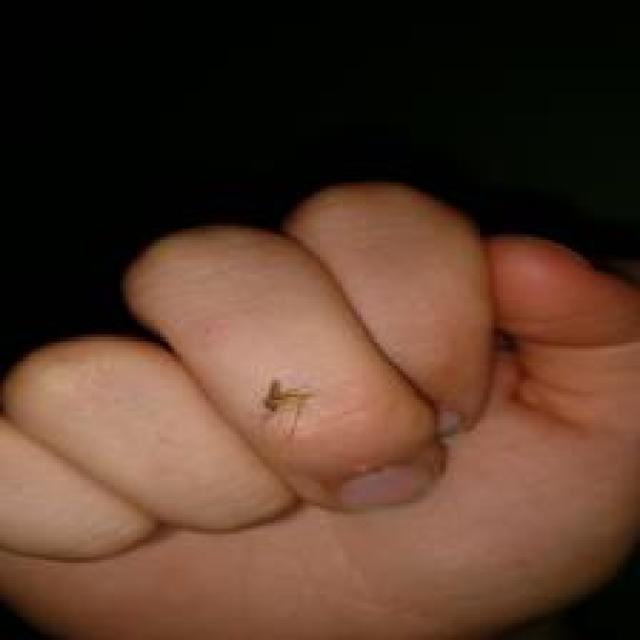Culex: (261, 377, 316, 437)
